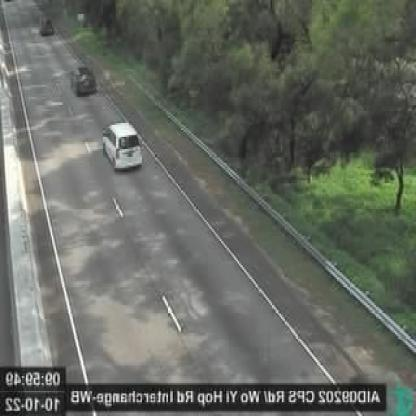Car: (102, 123, 146, 172), (70, 67, 96, 95)
